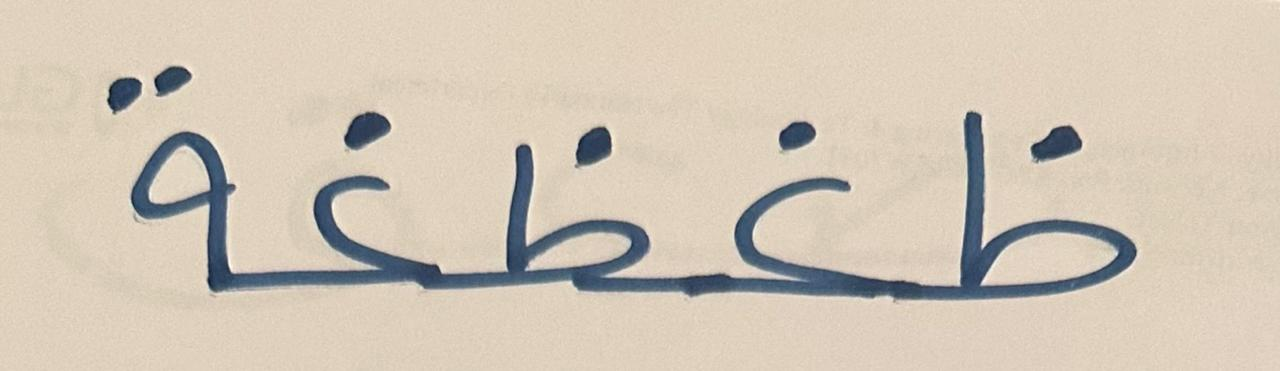ghain: (671, 38, 891, 342), (251, 69, 455, 342)
thal: (56, 27, 248, 325)
zain: (895, 56, 1169, 344), (459, 59, 667, 339)
